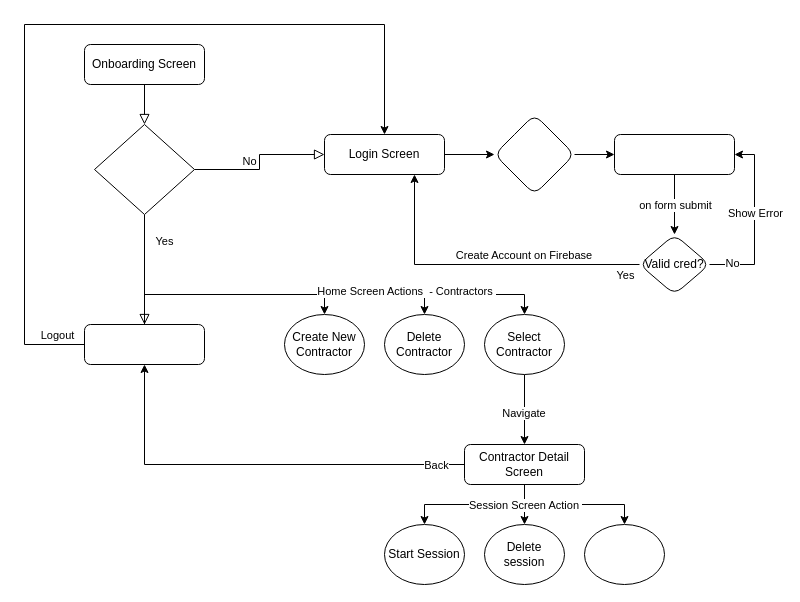
Image size: 800x602. Some labels were removed from this diagram. The centre of each missing label's shape, as x and y in pixels:
Home Screen: [144,344]
Is user Authed?: [144,169]
Needs to Register: [534,154]
Pause Session: [624,554]
Register Screen: [674,154]
